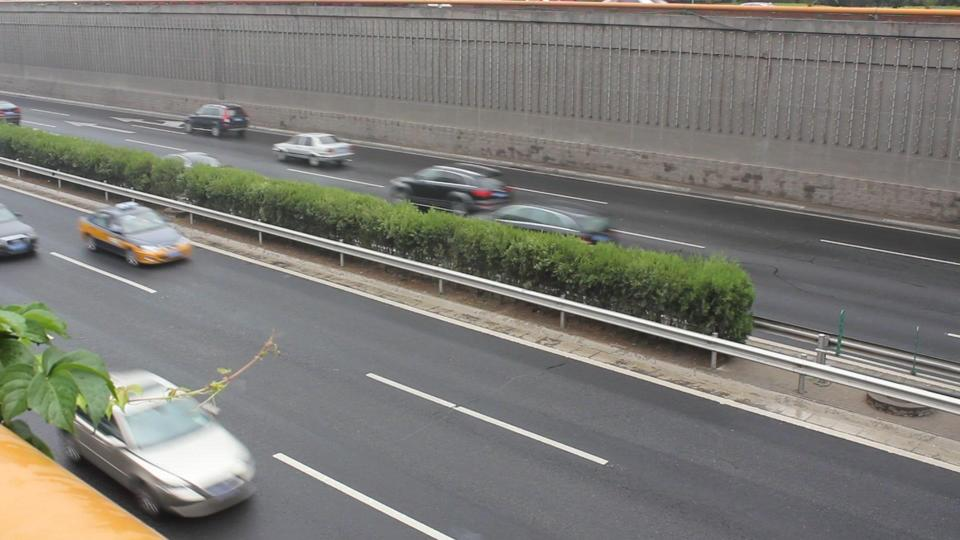Car: (59, 366, 259, 509), (482, 199, 630, 264), (83, 203, 199, 266), (390, 159, 511, 216), (273, 129, 354, 173), (157, 146, 239, 189), (181, 100, 246, 139)
